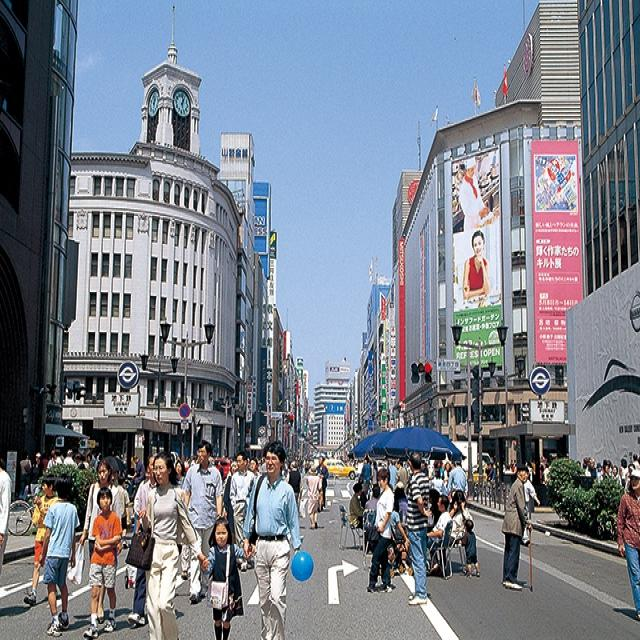body: (327, 427, 640, 593), (0, 419, 328, 565), (121, 448, 209, 639), (438, 146, 508, 346), (241, 437, 305, 639), (0, 593, 208, 636), (178, 435, 225, 605), (198, 512, 257, 639), (37, 472, 81, 639), (76, 456, 119, 623), (82, 484, 124, 640), (126, 452, 158, 627), (23, 472, 60, 608), (404, 452, 434, 607), (501, 464, 534, 593), (363, 464, 395, 595), (615, 467, 640, 621), (228, 451, 257, 545), (458, 154, 491, 234), (461, 228, 493, 303), (388, 497, 414, 571), (519, 466, 541, 550), (425, 492, 452, 552), (0, 456, 13, 577), (460, 517, 482, 579), (606, 592, 640, 627), (305, 463, 323, 528), (447, 456, 469, 500), (425, 487, 443, 540), (348, 478, 365, 534), (285, 460, 302, 515), (314, 454, 329, 514), (129, 455, 147, 488)
